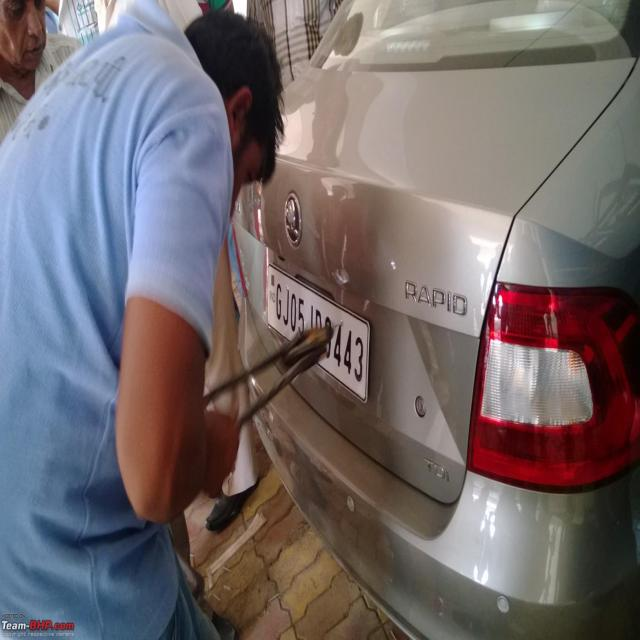license-plate: (267, 263, 366, 404)
